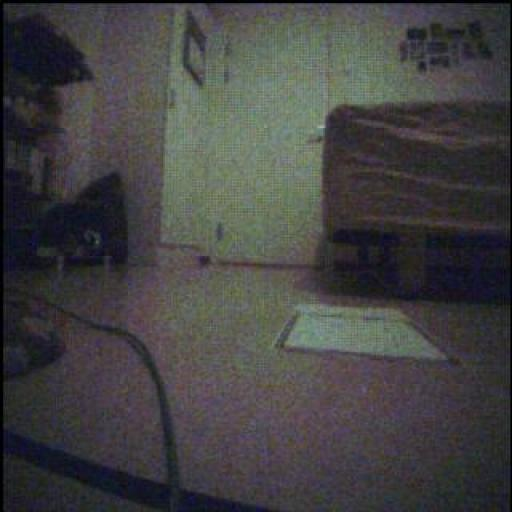pad: (278, 305, 451, 363)
